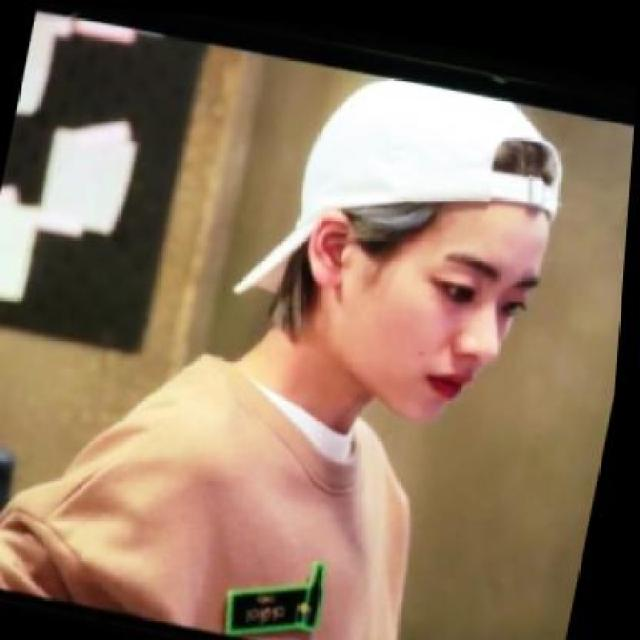hat: (235, 72, 564, 291)
